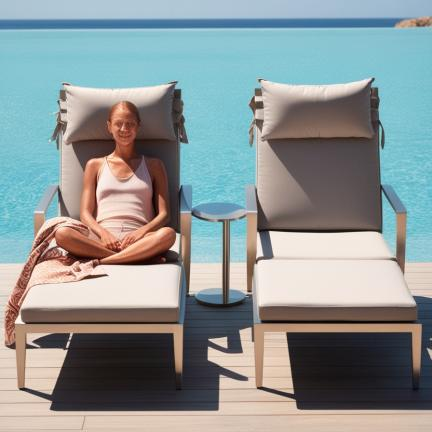empty chair: (246, 79, 422, 389)
guest on chair: (5, 82, 191, 388)
